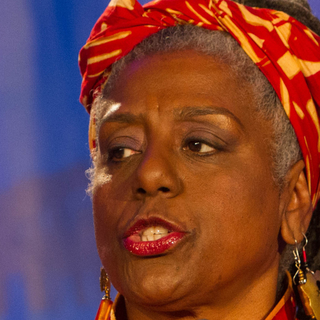eye: (177, 131, 226, 160), (100, 141, 143, 166)
